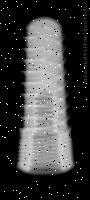Euroteknika: (16, 14, 76, 175)
